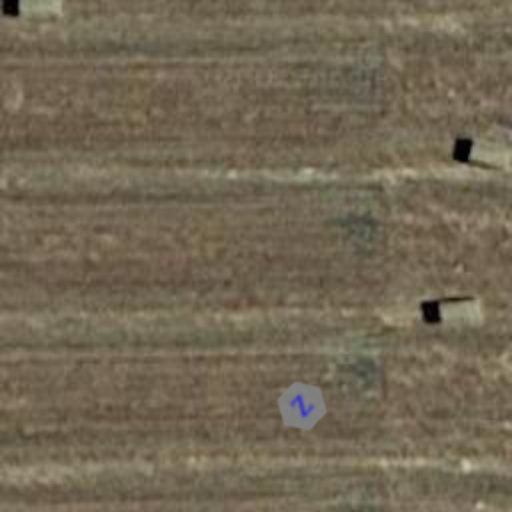hexagon: (264, 368, 340, 444)
